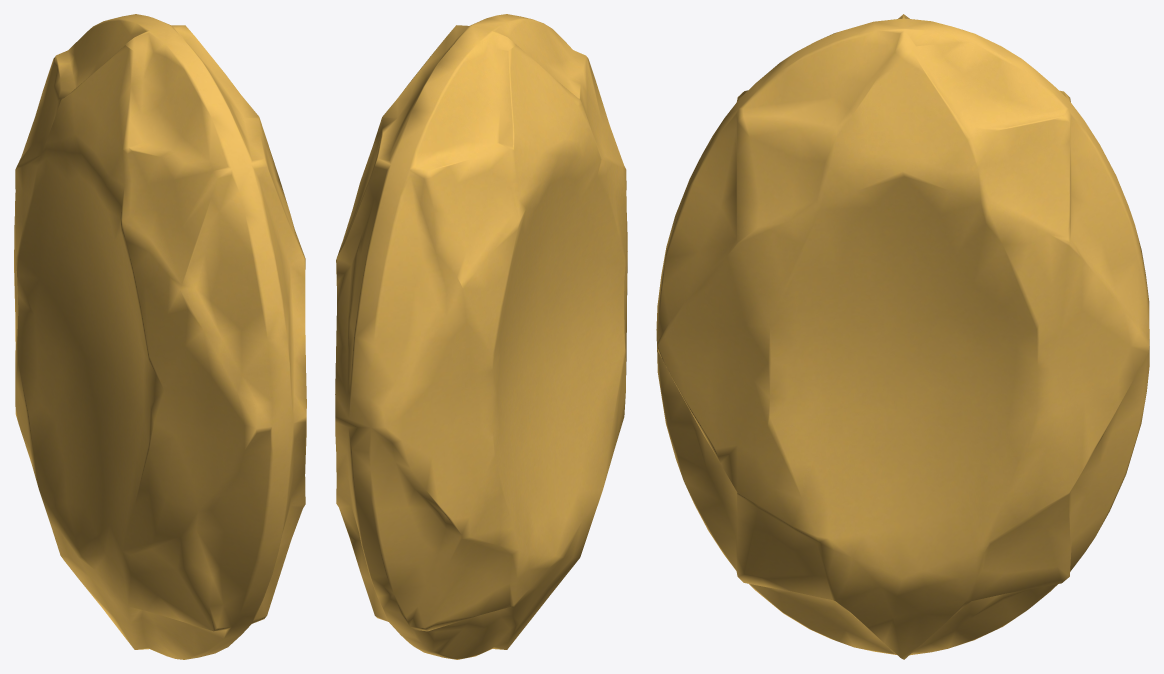
Rendered from tripo_convert_04c1e083-6314-4f45-8b6b-dc1899368309.fbx.
3 renders of one model, left to right at view 1: azimuth 30°, elevation 25°; view 2: azimuth 150°, elevation 25°; view 3: azimuth 270°, elevation 25°, orthographic.
Parts seen in each view (by area): view 1: tripo_node_04c1e083; view 2: tripo_node_04c1e083; view 3: tripo_node_04c1e083.
Boxes of the visible parts, x1,y1,x2,y2 form: tripo_node_04c1e083: [14, 14, 306, 659]; tripo_node_04c1e083: [335, 14, 627, 659]; tripo_node_04c1e083: [656, 14, 1149, 659].
Size of the model in its own units: 0.2645 by 0.9797 by 0.6985.
1 material, 1 textured.
